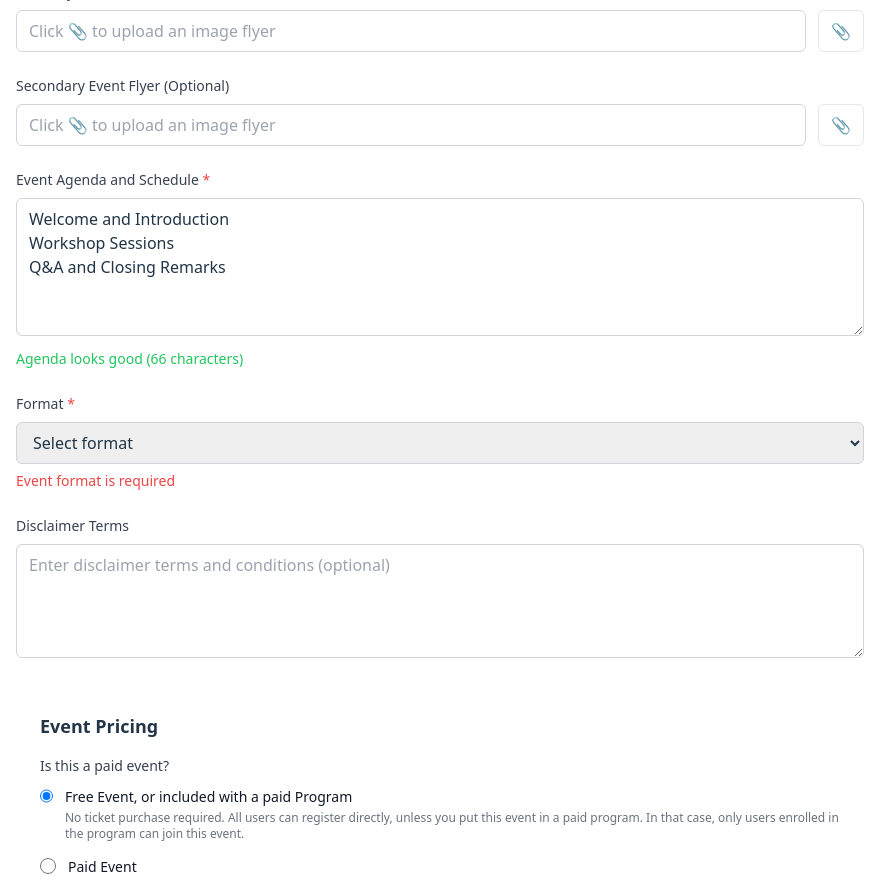
Test: CreateEvent - Program Labels wiring › copies program Zoom fields when opened from a program detail page
The width and height of the screenshot is (881, 880).
(page scrolled)
Select "Online" in the dropdown labelled "Format *". click: (440, 443)
box: [16,422,864,464]
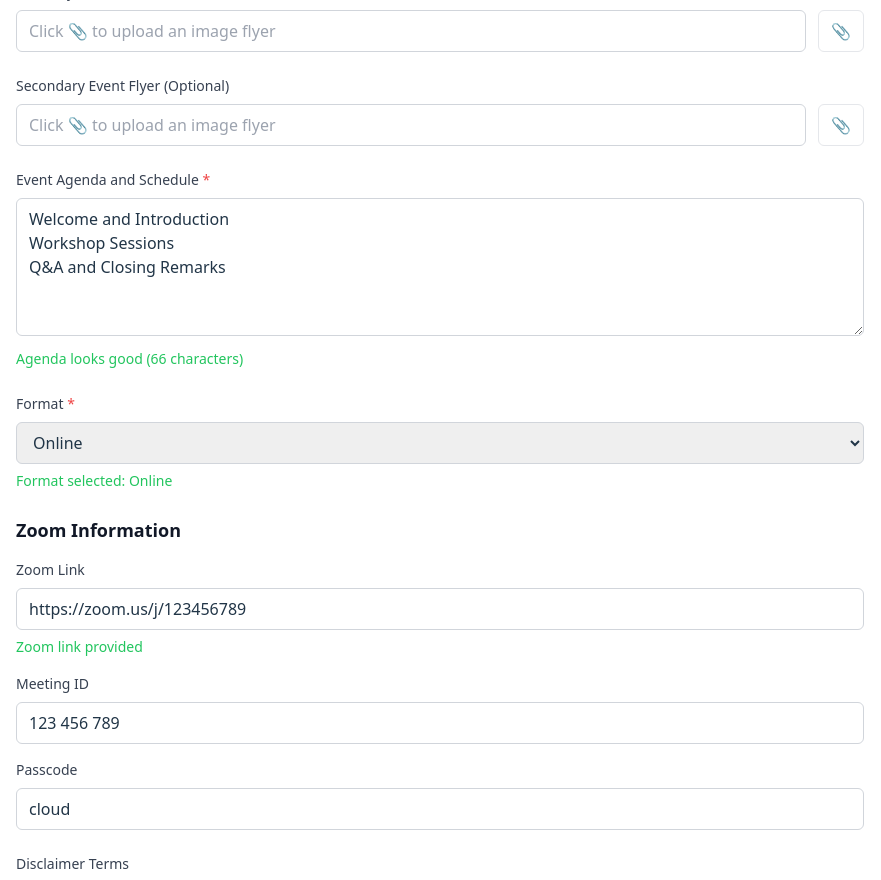
Check: the 1st field with placeholder "Enter Zoom meeting link (optional - can be added later)" holds "https://zoom.us/j/123456789", box [16,588,864,630]
Check: the field with placeholder "Enter Meeting ID (optional)" below "Meeting ID" holds "123 456 789", box [16,702,864,744]
Check: the field with placeholder "Enter passcode (optional)" below "Passcode" holds "cloud", box [16,788,864,830]
